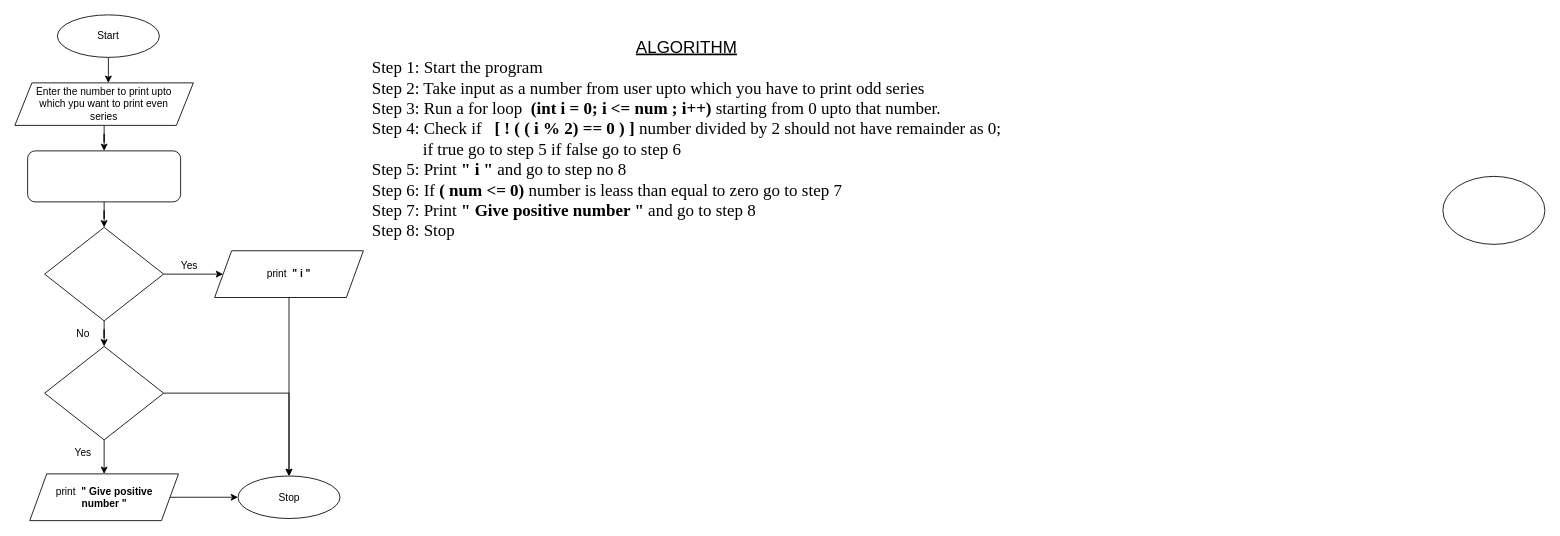
Image size: 1560x536. Some labels were removed from this diagram. The centre of each missing label's shape, as x and y in pixels:
"Check if ! ( (i % 2) == 0 )" belongs at point 104,274.
"for ( int i = 0 ; ( i <= num) ; i++)" belongs at point 104,176.
"if ( num <= 0 )" belongs at point 104,393.
